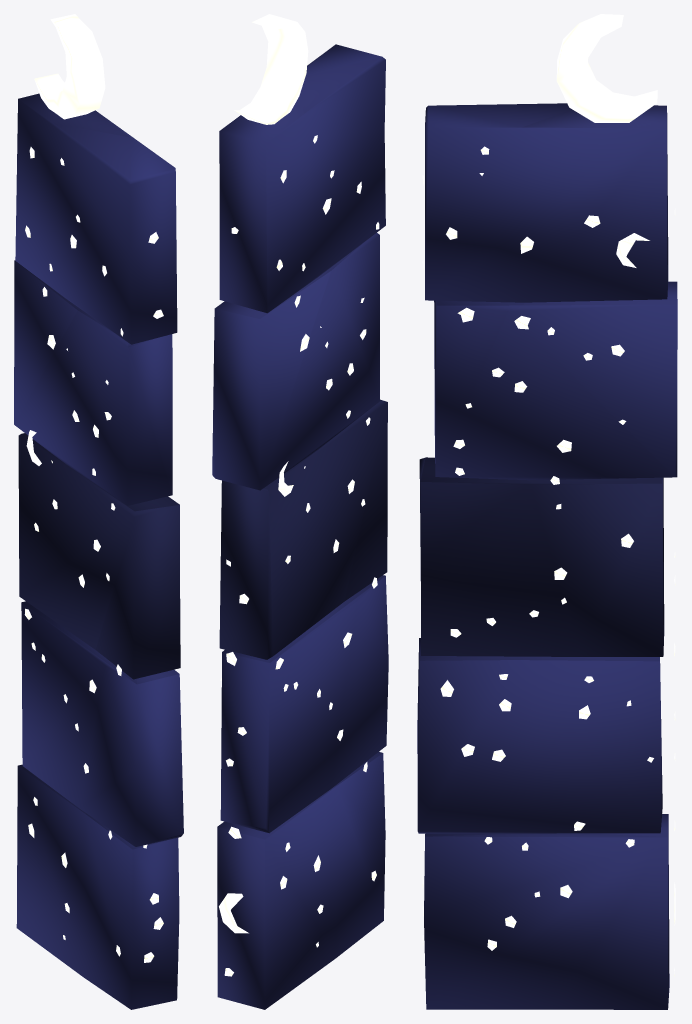
Rendered from den_moon_bookend_lod2.glb.
The picture shows the model from 3 angles, left to right: view 1: azimuth 30°, elevation 25°; view 2: azimuth 150°, elevation 25°; view 3: azimuth 270°, elevation 25°; orthographic projection. The views are drawn at different scales.
Visible parts, largest first — view 1: den_moon_bookend.001; view 2: den_moon_bookend.001; view 3: den_moon_bookend.001.
Boxes of the visible parts, x1,y1,x2,y2 form: den_moon_bookend.001: (14,14,183,1009); den_moon_bookend.001: (212,14,388,1009); den_moon_bookend.001: (417,14,677,1009).
Size of the model in its own units: 2.52 by 43.07 by 10.38.
